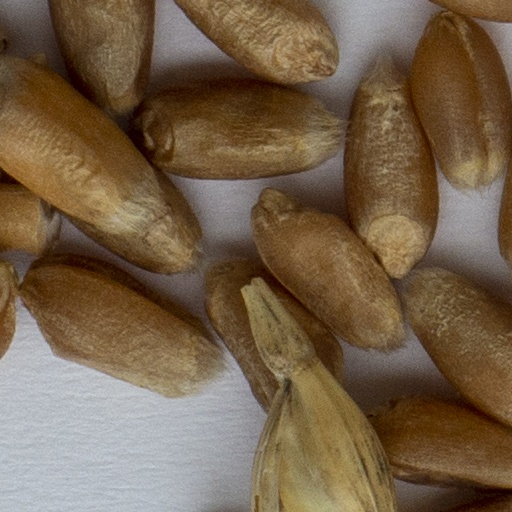Peel-poly: (251, 278, 396, 511)
Wheat-grain-damaged-poly: (0, 181, 61, 257)
